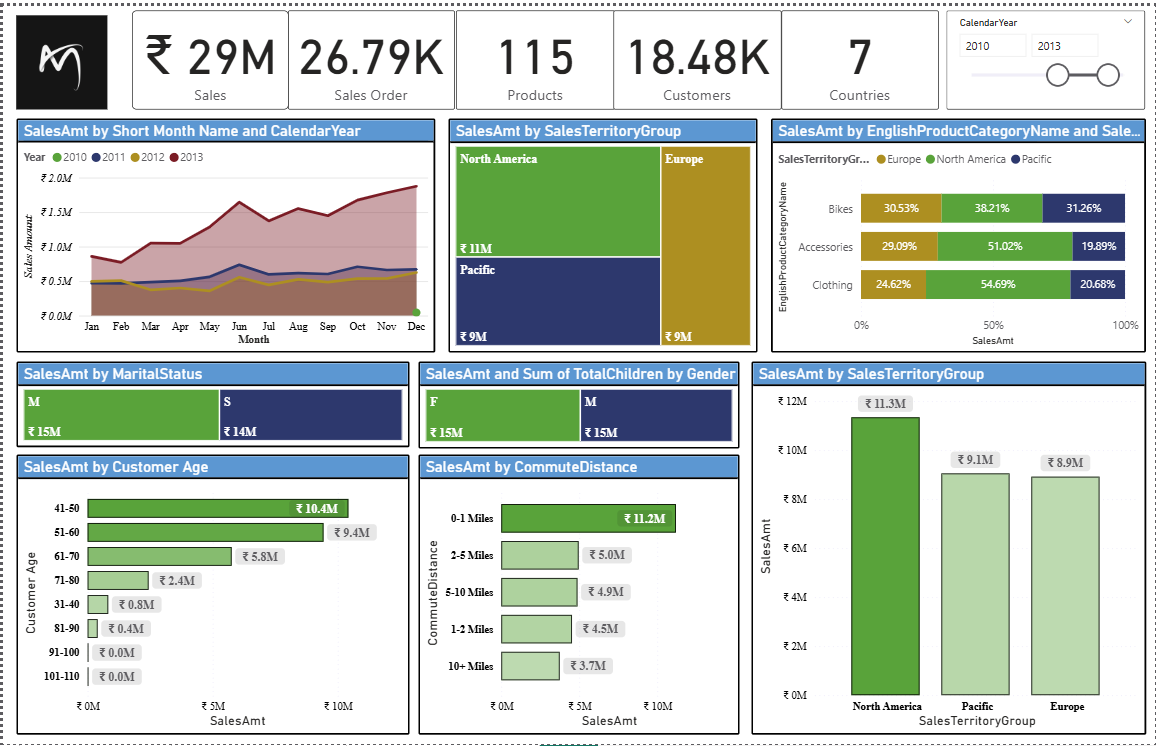

What the dashboard file says about the page in this screenshot:
{"tool":"powerbi","page":{"name":"Sales","canvas":[1280,820],"ordinal":0},"visuals":[{"type":"card","fields":{"Values":["MeasureTable.SalesAmt"]},"box":[143,5,174,110],"z":0},{"type":"card","fields":{"Values":["Count(FactInternetSales.SalesOrderNumber)"]},"box":[317,5,185,110],"z":1000},{"type":"card","fields":{"Values":["Count(DimProduct.EnglishDescription)"]},"box":[502.7,5.5,176.4,110],"z":2000},{"type":"card","fields":{"Values":["Count(DimCustomer.CustomerKey)"]},"box":[679.1,5.5,186.4,110],"z":3000},{"type":"card","fields":{"Values":["Count(DimSalesTerritory.SalesTerritoryCountry)"]},"box":[865.5,5.5,174.5,110],"z":4000},{"type":"areaChart","fields":{"Category":["DimDate.Short Month Name"],"Y":["MeasureTable.SalesAmt"],"Series":["DimDate.CalendarYear"]},"box":[15.5,125.5,465.5,260],"z":5000},{"type":"slicer","fields":{"Values":["DimDate.CalendarYear"]},"box":[1049.1,5.5,220.9,110],"z":6000},{"type":"treemap","fields":{"Values":["MeasureTable.SalesAmt"],"Group":["DimSalesTerritory.SalesTerritoryGroup"]},"box":[495.5,125.5,343.6,260],"z":7000},{"type":"hundredPercentStackedBarChart","fields":{"Y":["MeasureTable.SalesAmt"],"Category":["DimProductCategory.EnglishProductCategoryName"],"Series":["DimSalesTerritory.SalesTerritoryGroup"]},"box":[853.6,125.5,416.4,260],"z":8000},{"type":"treemap","fields":{"Values":["MeasureTable.SalesAmt"],"Group":["DimCustomer.MaritalStatus"]},"box":[15.6,394.4,436.7,95.6],"z":9000},{"type":"treemap","fields":{"Values":["MeasureTable.SalesAmt"],"Group":["DimCustomer.Gender"]},"box":[462.2,394.4,356.7,96.7],"z":10000},{"type":"barChart","fields":{"Category":["DimCustomer.Customer Age"],"Y":["MeasureTable.SalesAmt"]},"box":[15.6,498.9,436.7,311.1],"z":11000},{"type":"barChart","fields":{"Y":["MeasureTable.SalesAmt"],"Category":["DimCustomer.CommuteDistance"]},"box":[462.2,498.9,356.7,311.1],"z":12000},{"type":"columnChart","fields":{"Category":["DimSalesTerritory.SalesTerritoryGroup"],"Y":["MeasureTable.SalesAmt"]},"box":[831.1,394.4,438.9,414.4],"z":13000},{"type":"image","box":[7,5,117,115],"z":14000}]}

Visuals, with their boxes in screenshot pixels (x1, y1, x2, y2), scaled from the page's 1280x820 canvas onto the 1156x746 screenshot:
card - MeasureTable.SalesAmt: (x1=129, y1=5, x2=286, y2=105)
card - Count(FactInternetSales.SalesOrderNumber): (x1=286, y1=5, x2=453, y2=105)
card - Count(DimProduct.EnglishDescription): (x1=454, y1=5, x2=613, y2=105)
card - Count(DimCustomer.CustomerKey): (x1=613, y1=5, x2=782, y2=105)
card - Count(DimSalesTerritory.SalesTerritoryCountry): (x1=782, y1=5, x2=939, y2=105)
areaChart - DimDate.Short Month Name x MeasureTable.SalesAmt: (x1=14, y1=114, x2=434, y2=351)
slicer - DimDate.CalendarYear: (x1=947, y1=5, x2=1147, y2=105)
treemap - MeasureTable.SalesAmt x DimSalesTerritory.SalesTerritoryGroup: (x1=447, y1=114, x2=758, y2=351)
hundredPercentStackedBarChart - MeasureTable.SalesAmt x DimProductCategory.EnglishProductCategoryName: (x1=771, y1=114, x2=1147, y2=351)
treemap - MeasureTable.SalesAmt x DimCustomer.MaritalStatus: (x1=14, y1=359, x2=408, y2=446)
treemap - MeasureTable.SalesAmt x DimCustomer.Gender: (x1=417, y1=359, x2=740, y2=447)
barChart - DimCustomer.Customer Age x MeasureTable.SalesAmt: (x1=14, y1=454, x2=408, y2=737)
barChart - MeasureTable.SalesAmt x DimCustomer.CommuteDistance: (x1=417, y1=454, x2=740, y2=737)
columnChart - DimSalesTerritory.SalesTerritoryGroup x MeasureTable.SalesAmt: (x1=751, y1=359, x2=1147, y2=736)
image: (x1=6, y1=5, x2=112, y2=109)
